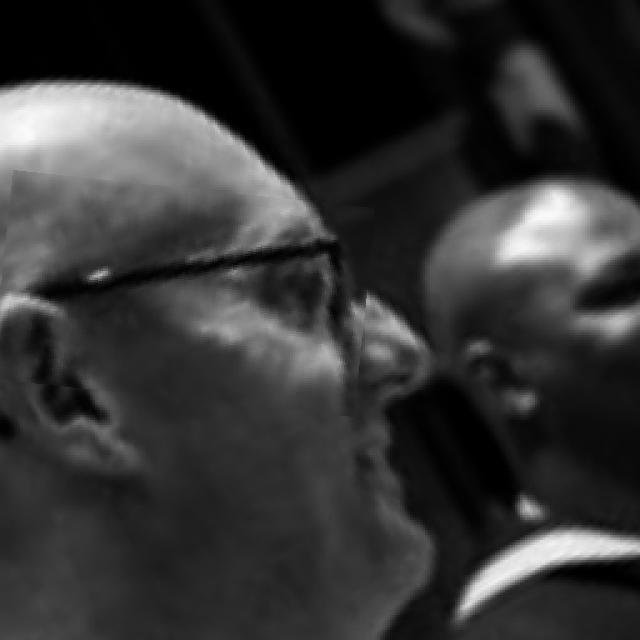glasses: (0, 204, 366, 380)
